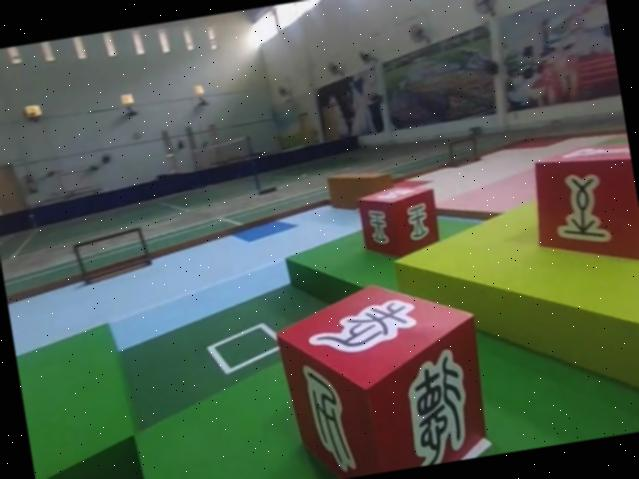R2 Fake: (268, 265, 497, 479)
R2 Real: (521, 132, 639, 275), (349, 177, 445, 263)
